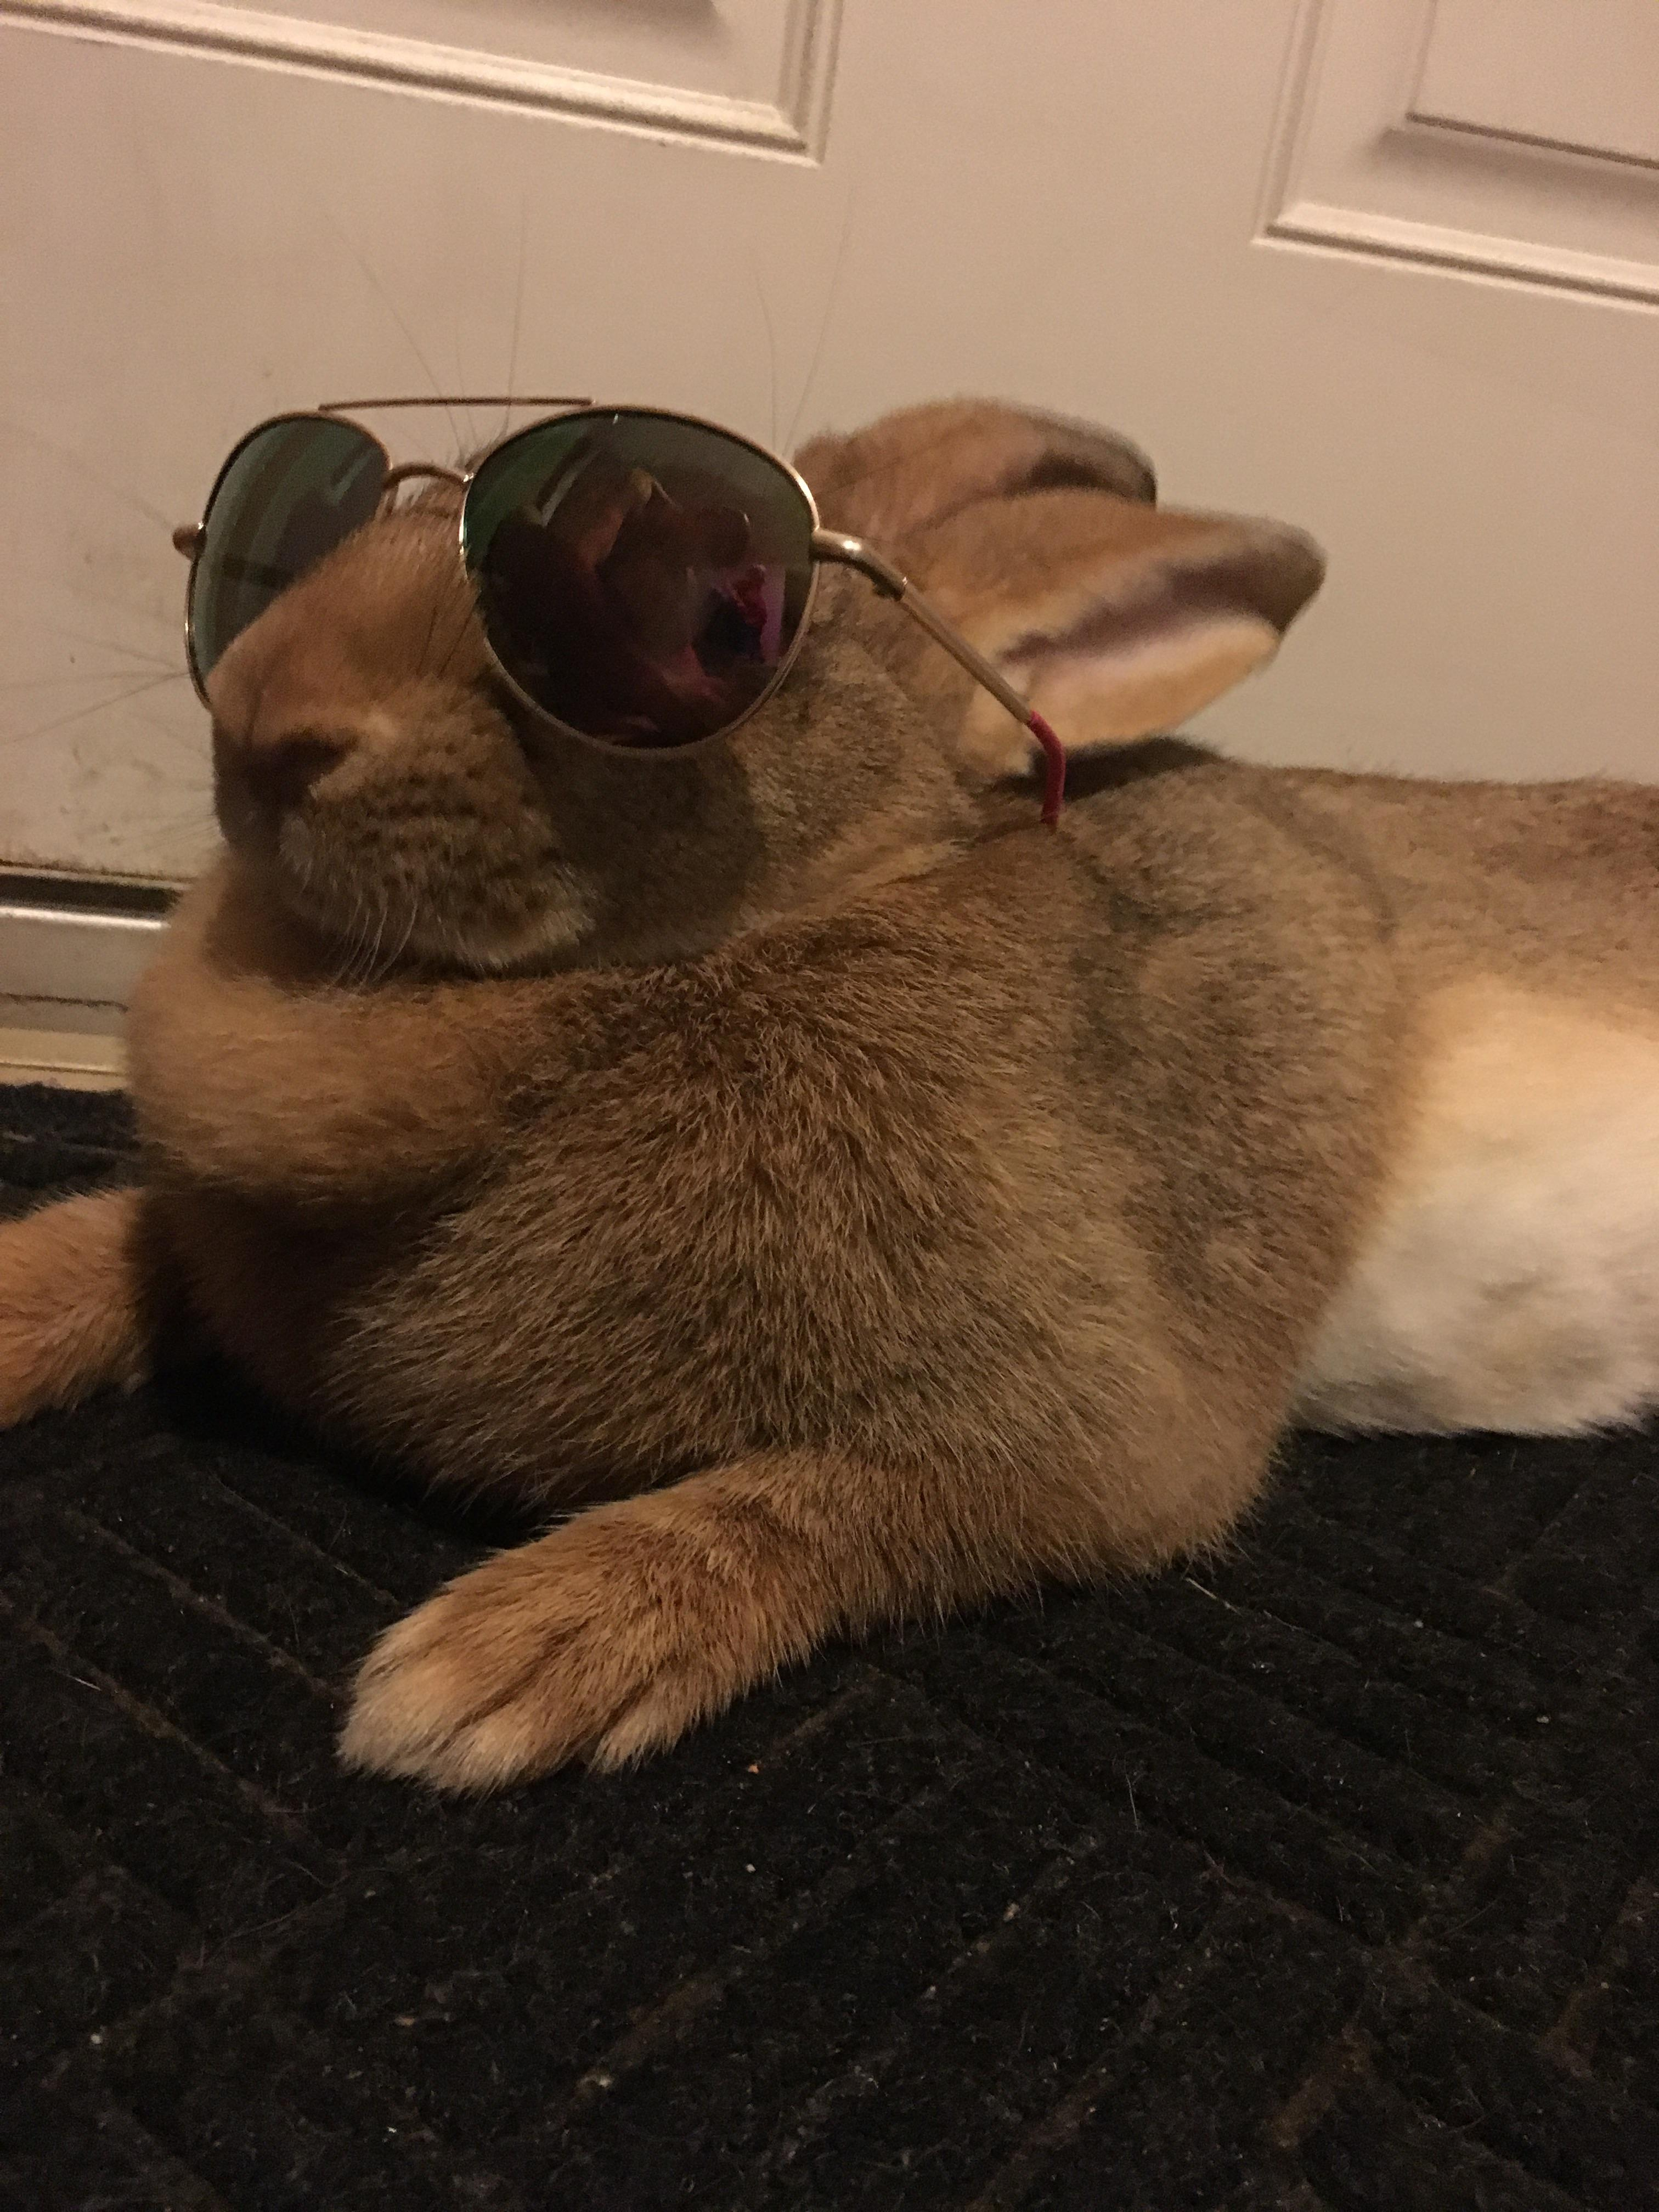bunny: (17, 216, 1659, 1810)
